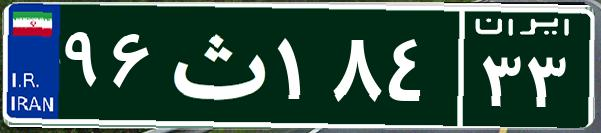1: (273, 28, 330, 110)
3: (475, 38, 525, 113), (525, 38, 570, 115)
4: (385, 28, 445, 110)
6: (110, 28, 158, 105)
8: (330, 28, 385, 110)
9: (57, 26, 110, 107)
ث: (158, 15, 273, 115)
